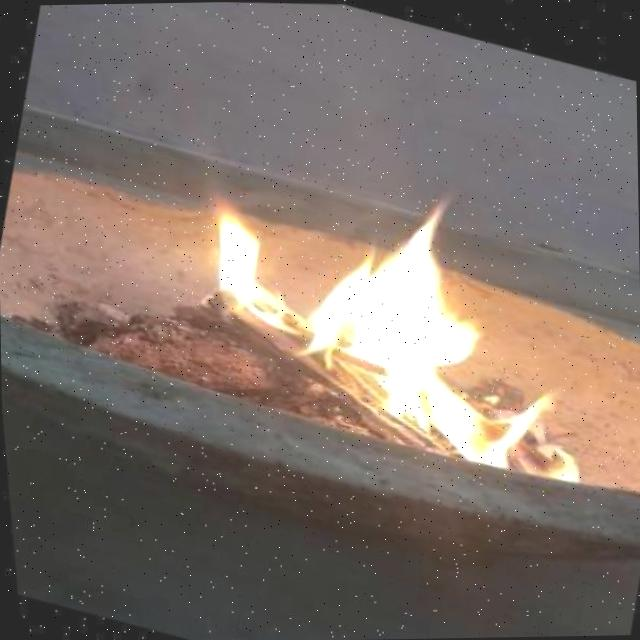fire: (225, 197, 598, 471)
